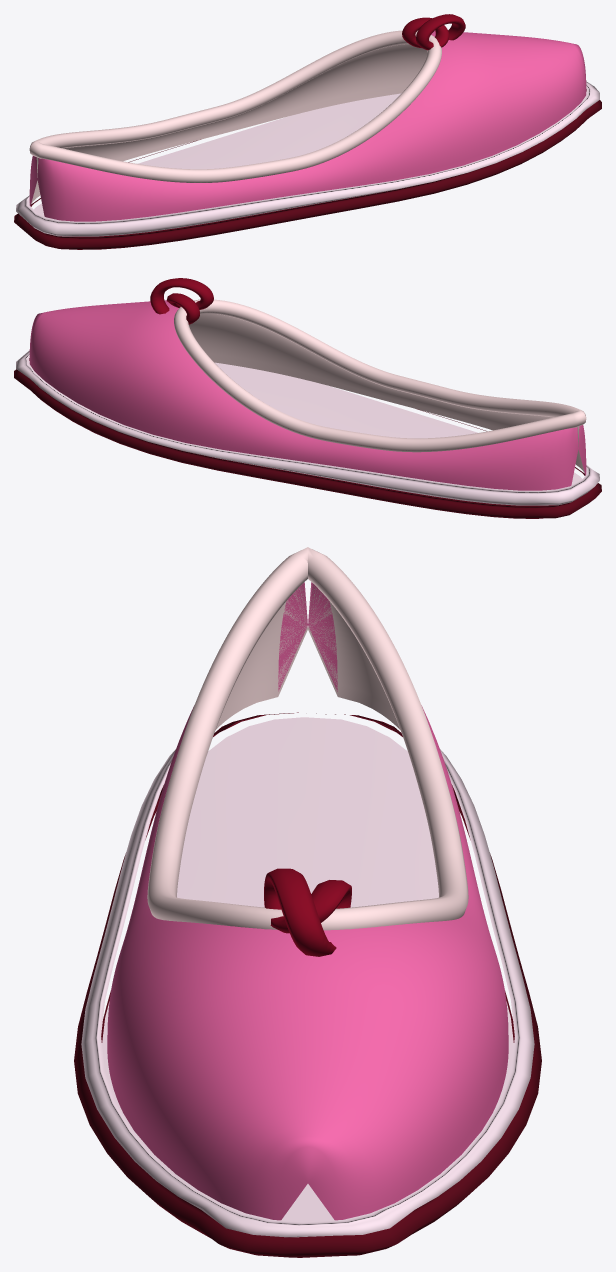
File: ballet-flat-rose.glb
3 renders of one model, top to bottom at view 1: azimuth 30°, elevation 25°; view 2: azimuth 150°, elevation 25°; view 3: azimuth 270°, elevation 25°, orthographic. The views are drawn at different scales.
Visible parts, largest first — view 1: upper, midsole, collar, lining, outsole, bow; view 2: upper, midsole, collar, lining, outsole, bow; view 3: upper, midsole, collar, outsole, lining, bow.
Boxes of the visible parts, x1,y1,x2,y2 form: upper: [29, 31, 586, 221]; midsole: [16, 81, 599, 236]; collar: [29, 30, 441, 182]; lining: [31, 44, 427, 203]; outsole: [14, 89, 601, 249]; bow: [402, 14, 465, 50]; upper: [29, 300, 586, 490]; midsole: [16, 350, 599, 505]; collar: [174, 299, 586, 452]; lining: [189, 313, 584, 472]; outsole: [14, 358, 601, 518]; bow: [150, 278, 213, 324]; upper: [107, 582, 508, 1220]; midsole: [81, 717, 534, 1237]; collar: [147, 547, 468, 930]; outsole: [74, 712, 541, 1257]; lining: [215, 585, 400, 729]; bow: [264, 868, 351, 956].
Bounding box in the file's own units: 0.263 × 0.0567 × 0.0949.
